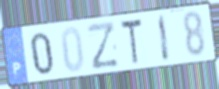0: (59, 25, 87, 75), (28, 31, 56, 77)
8: (182, 9, 207, 60)
I: (157, 13, 172, 64)
T: (119, 16, 144, 67)
Z: (85, 20, 121, 73)
